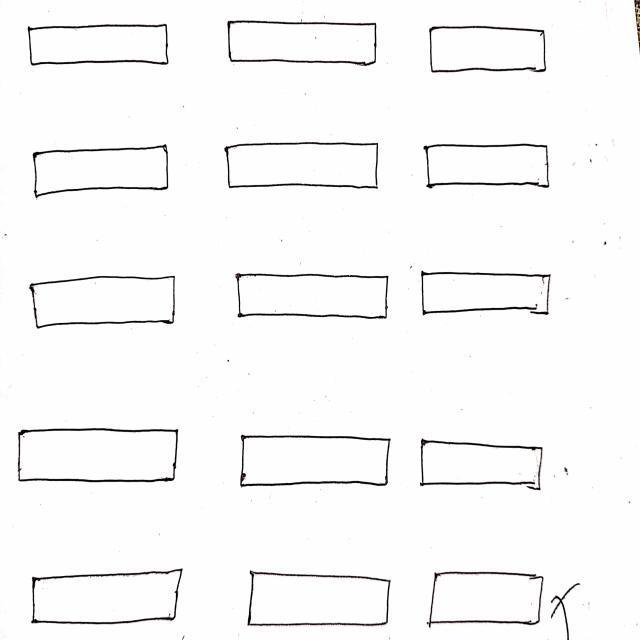textbox: (7, 422, 186, 493), (213, 8, 385, 80), (18, 269, 192, 340), (238, 557, 400, 633), (20, 561, 195, 631), (223, 127, 386, 201), (221, 267, 402, 331), (233, 429, 400, 497), (23, 15, 176, 88), (24, 138, 184, 203), (413, 425, 549, 501), (418, 18, 560, 86), (425, 562, 553, 634), (417, 136, 560, 198), (417, 264, 556, 327)
